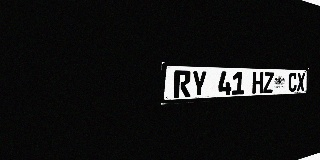plate: (161, 62, 309, 105)
